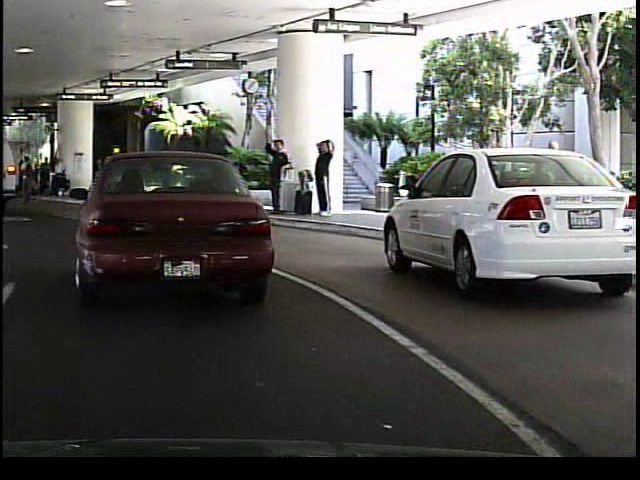person: (308, 133, 334, 219), (262, 132, 283, 210), (309, 148, 331, 214), (151, 155, 171, 196)
